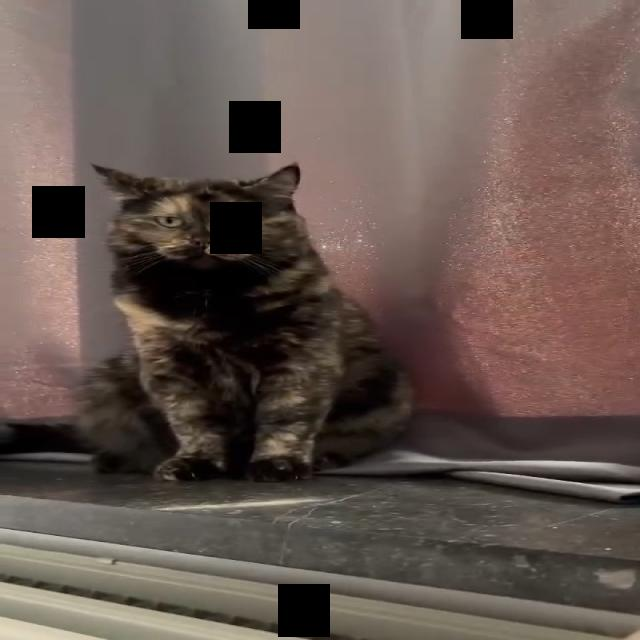authorized: (73, 160, 416, 482)
